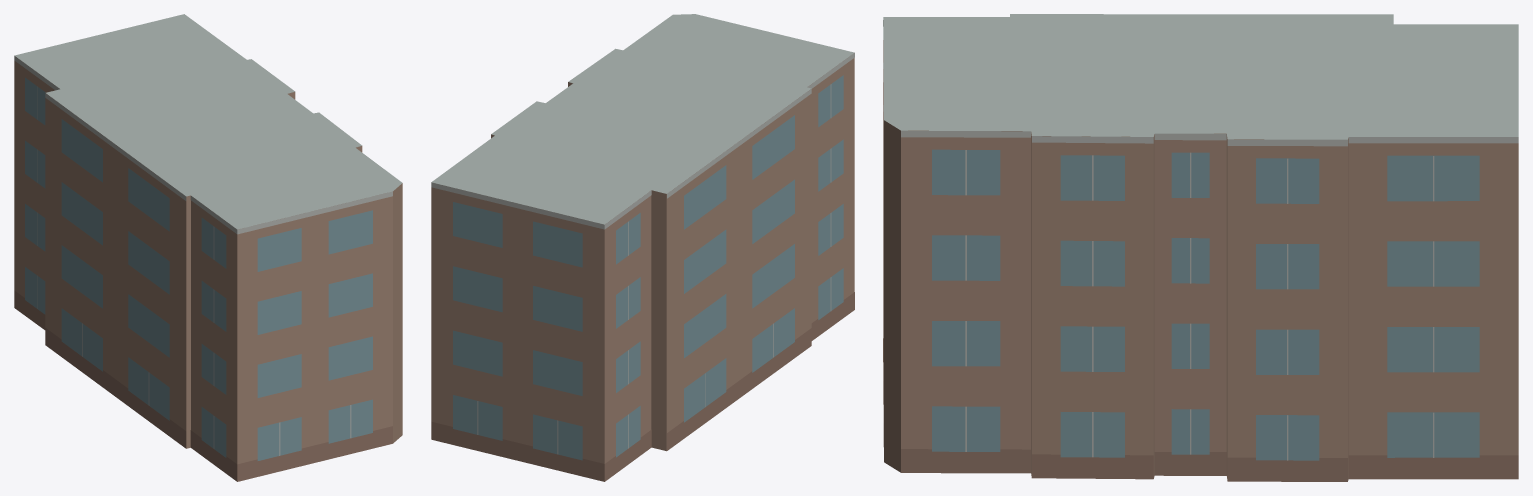
Rendered from survey-upis-32776793.glb.
3 renders of one model, left to right at view 1: azimuth 30°, elevation 25°; view 2: azimuth 150°, elevation 25°; view 3: azimuth 270°, elevation 25°, orthographic. The views are drawn at different scales.
Visible parts, largest first — view 1: survey-upis-32776793.tmp; view 2: survey-upis-32776793.tmp; view 3: survey-upis-32776793.tmp.
Boxes of the visible parts, x1,y1,x2,y2 form: survey-upis-32776793.tmp: (14,14,402,481); survey-upis-32776793.tmp: (431,14,854,481); survey-upis-32776793.tmp: (883,14,1518,481).
Size of the model in its own units: 10.01 by 12.7 by 21.38.
